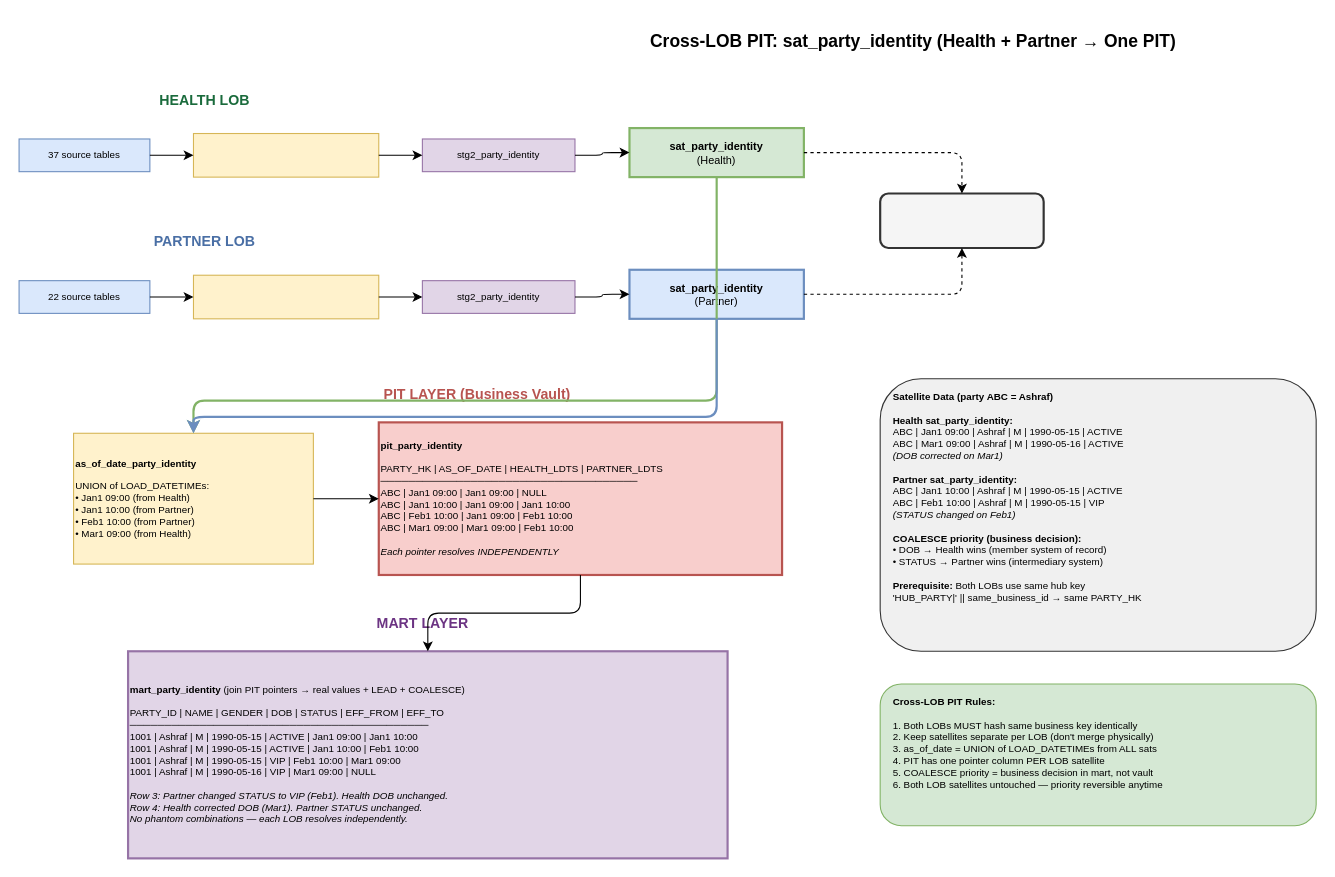
This 1335x877 diagram has some shape labels left out. The shapes that lost their labels are listed below. From the top down, each one's box as (x1, y1, x2, y2) in pixels, then its label:
(192, 132, 379, 177): stitch_party_identity (37 stg1s COALESCEd)
(879, 192, 1044, 249): HUB_PARTY (shared PARTY_HK)
(192, 274, 379, 319): stitch_party_identity (22 stg1s COALESCEd)
